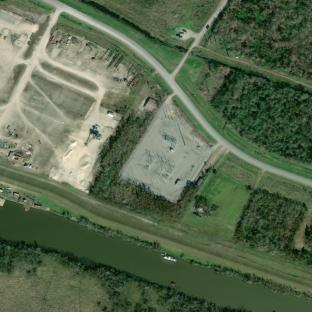Floresta: (90, 113, 184, 217), (211, 69, 312, 164), (212, 0, 312, 79), (234, 189, 306, 252), (0, 0, 0, 0)
